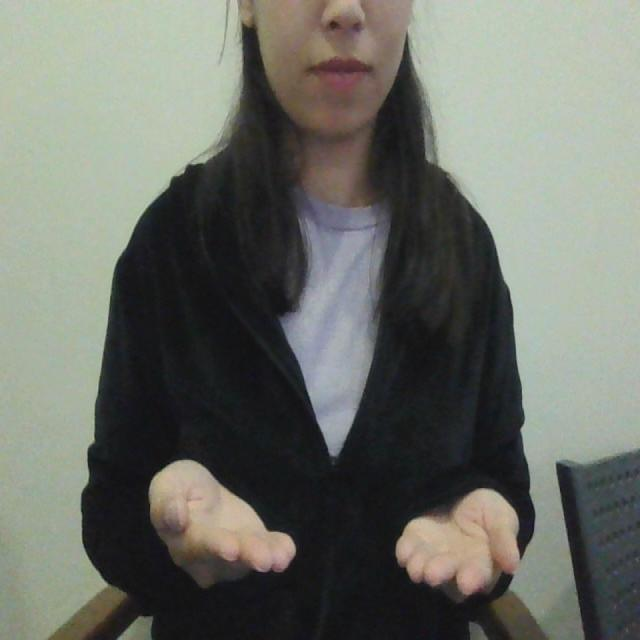Evet: (144, 450, 525, 606)
